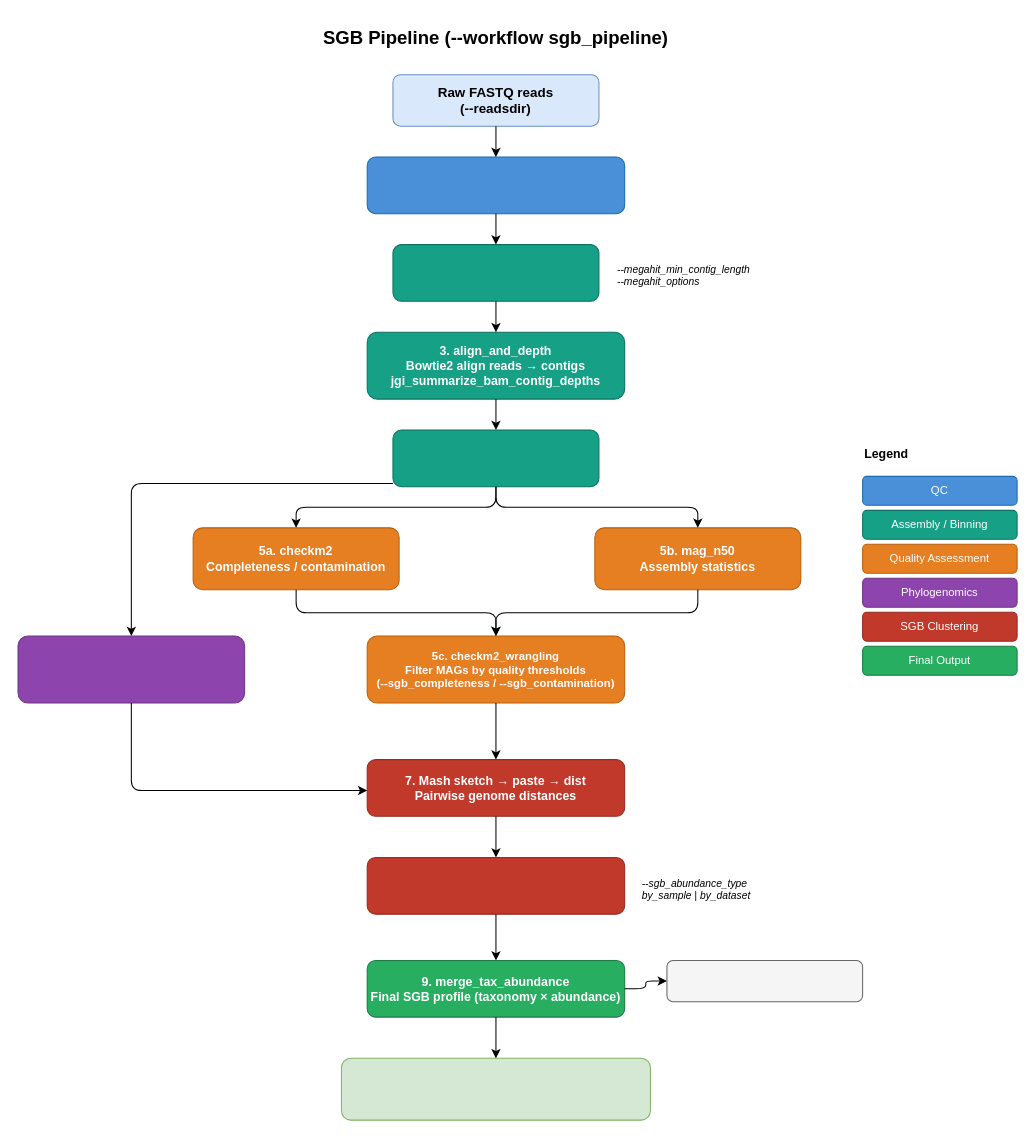
The diagram is 1035 pixels wide and 1138 high, and some of its shapes have lost their labels. Each missing label, with the centre of its shape:
1. QUALITY_CONTROL KneadData — host decontamination: the point at 495,185
2. megahit De novo assembly: the point at 495,272
4. metabat2 Bin contigs into MAGs: the point at 495,458
6. phylophlan_metagenomic Phylogenetic placement SGB / GGB / FGB assignment: the point at 131,669
8. sgb_cluster Cluster MAGs into SGBs (R): the point at 495,885
results/ megahit/ | metabat2/ | checkm2/ phylophlan/ | sgbs/ | pipeline_info/: the point at 495,1088
version_log → pipeline_info/: the point at 764,980
